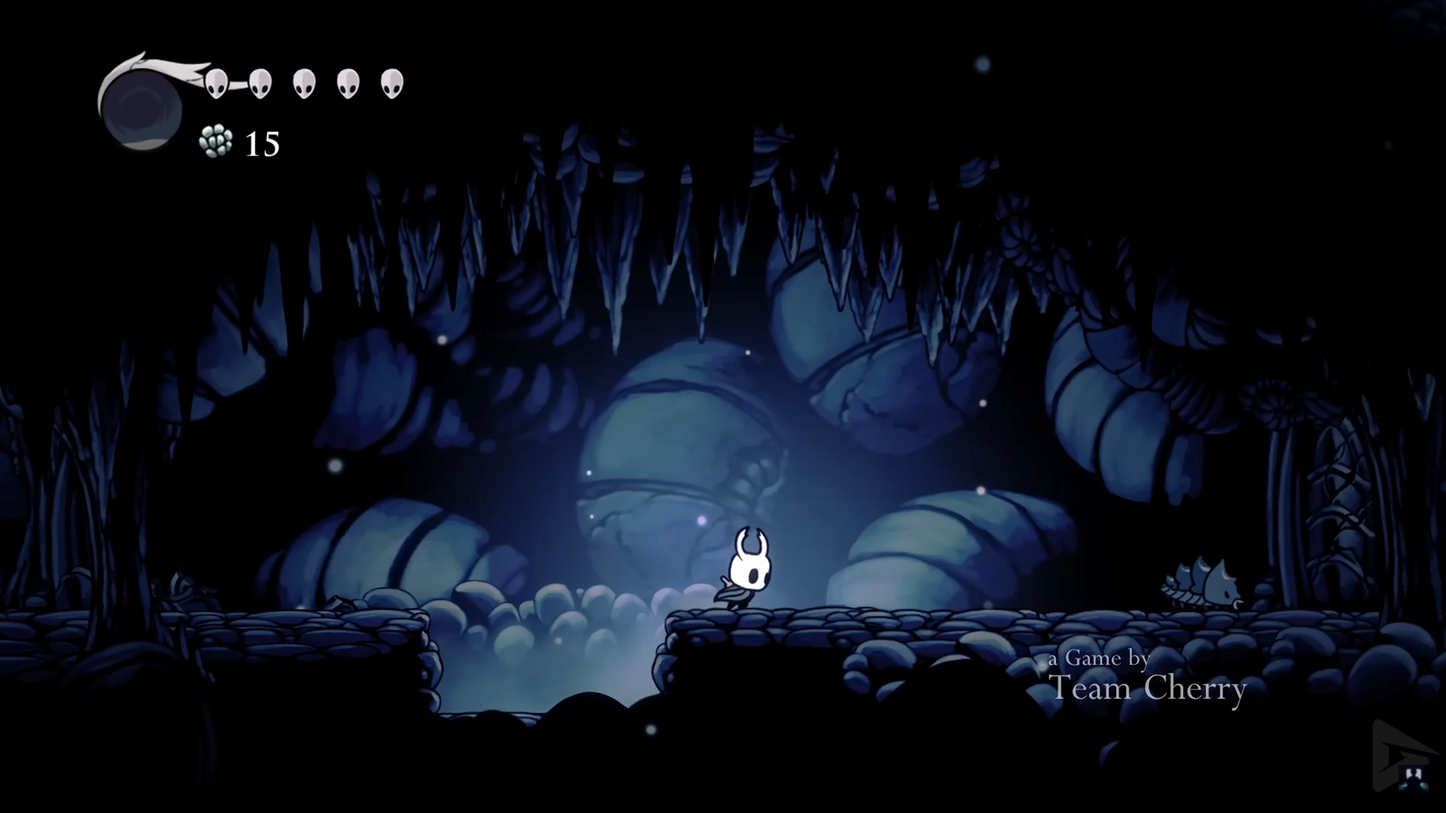HK: (716, 521, 776, 614)
